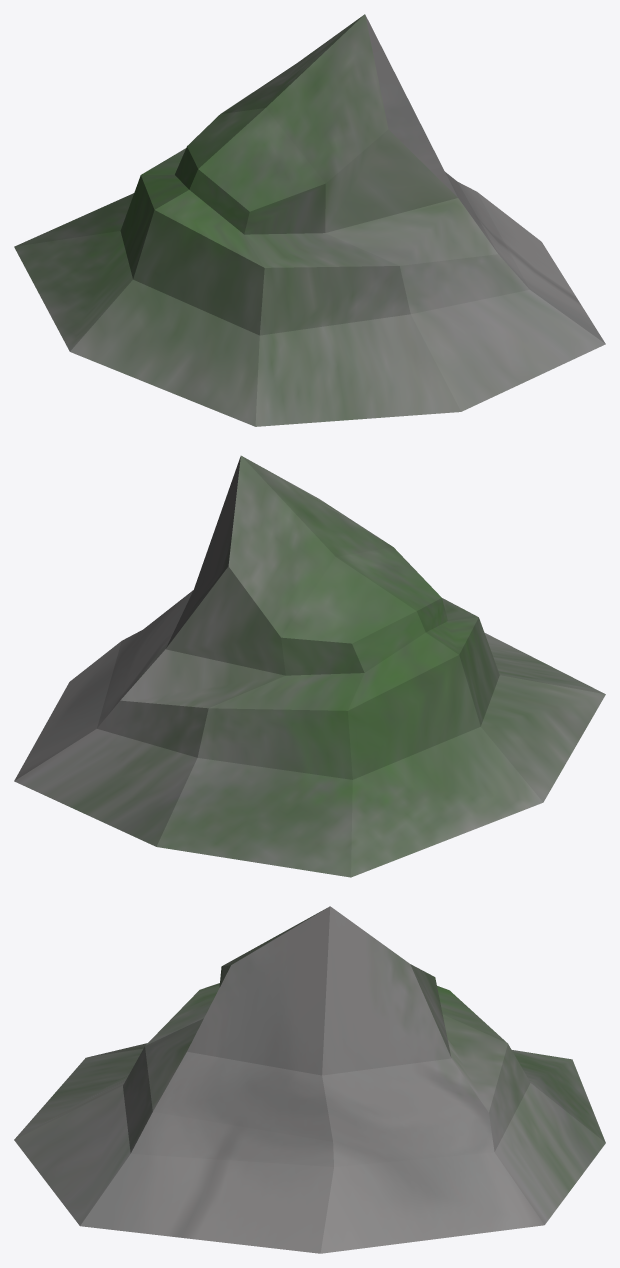
Rendered from mossed-stone-007-60.glb.
3 renders of one model, top to bottom at view 1: azimuth 30°, elevation 25°; view 2: azimuth 150°, elevation 25°; view 3: azimuth 270°, elevation 25°, orthographic. The views are drawn at different scales.
Parts seen in each view (by area): view 1: mossed_stone.007_60; view 2: mossed_stone.007_60; view 3: mossed_stone.007_60.
Boxes of the visible parts, x1=… form: mossed_stone.007_60: x1=14, y1=14, x2=605, y2=426; mossed_stone.007_60: x1=14, y1=455, x2=605, y2=877; mossed_stone.007_60: x1=14, y1=906, x2=605, y2=1253.
Size of the model in its own units: 10.09 by 5.5 by 11.16.
1 material, 1 textured.
